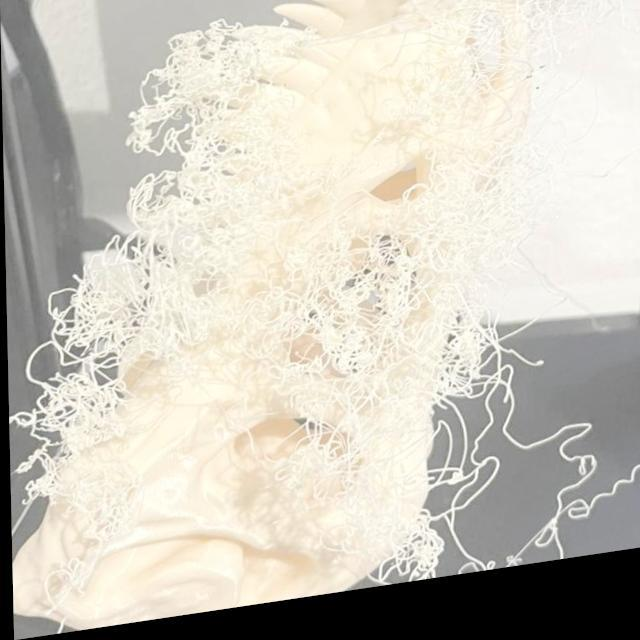spaghetti: (276, 264, 430, 414), (26, 310, 153, 464), (300, 399, 408, 549), (76, 255, 212, 368), (150, 37, 264, 164), (419, 171, 534, 281), (123, 171, 240, 256), (401, 55, 497, 154), (428, 315, 504, 422), (485, 1, 617, 55), (53, 465, 143, 544), (355, 514, 444, 586)
